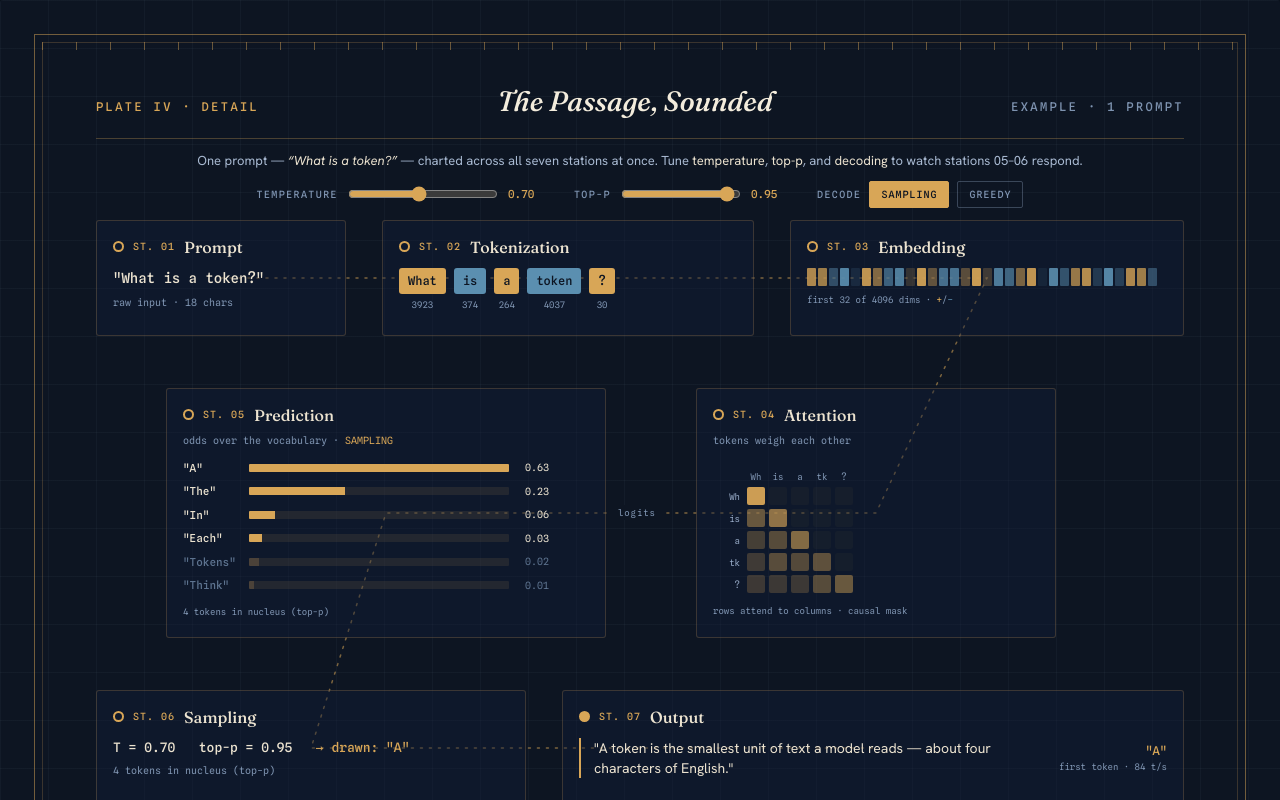
Scenario: PlateIVDetail — The Passage, Sounded › recomputes instantly when temperature slides to 0 (clamped to 0.05)
This screenshot has width=1280, height=800.
Set the slider named "Temperature" to "0" at (356, 194), box [348, 187, 498, 201]
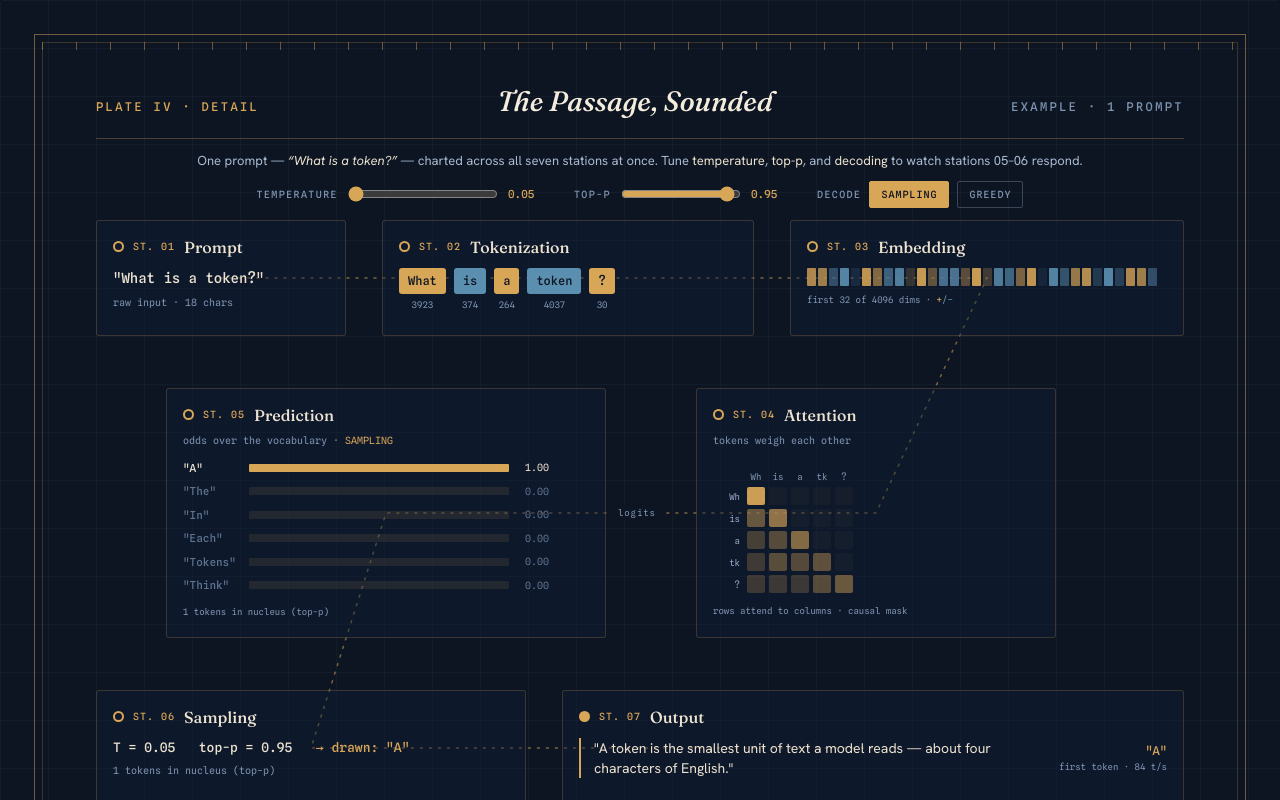
Expected: the text "0.00" is shown 5 times, [525, 485, 549, 497]; [525, 508, 549, 520]; [525, 532, 549, 544]; [525, 555, 549, 567]; [525, 579, 549, 591]
Result: the text "0.05" is shown at [508, 187, 534, 201]
Result: the text "1.00" is shown at [525, 461, 549, 473]
